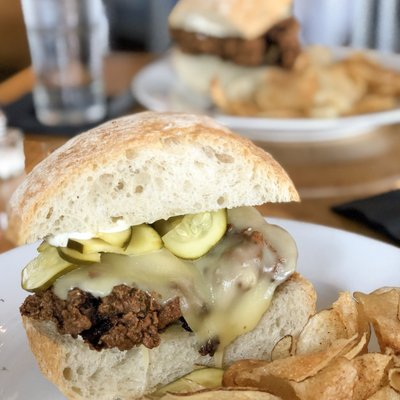pizza: (19, 0, 109, 130)
soup: (8, 110, 317, 397)
